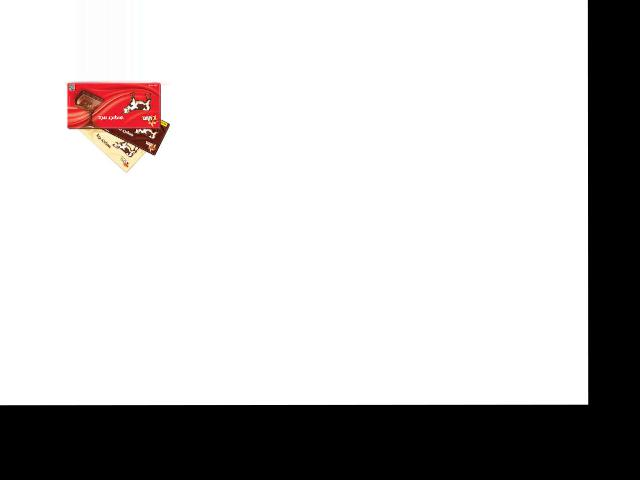chocolate: (70, 120, 156, 174)
